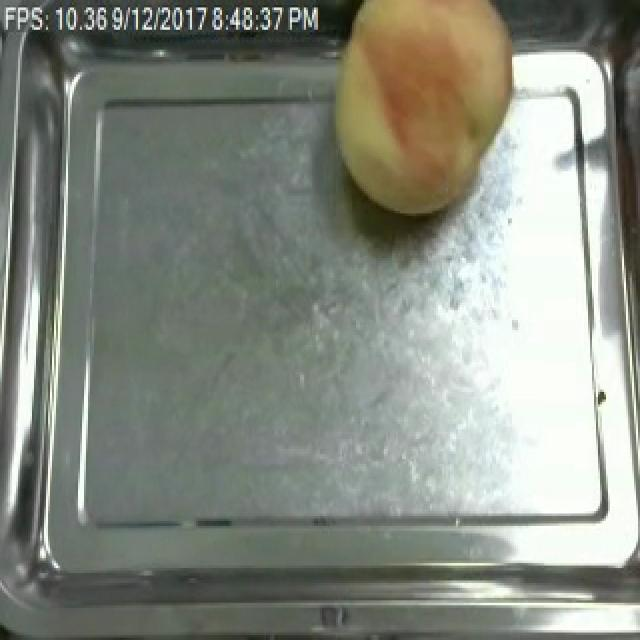Fruit: (320, 0, 526, 223)
